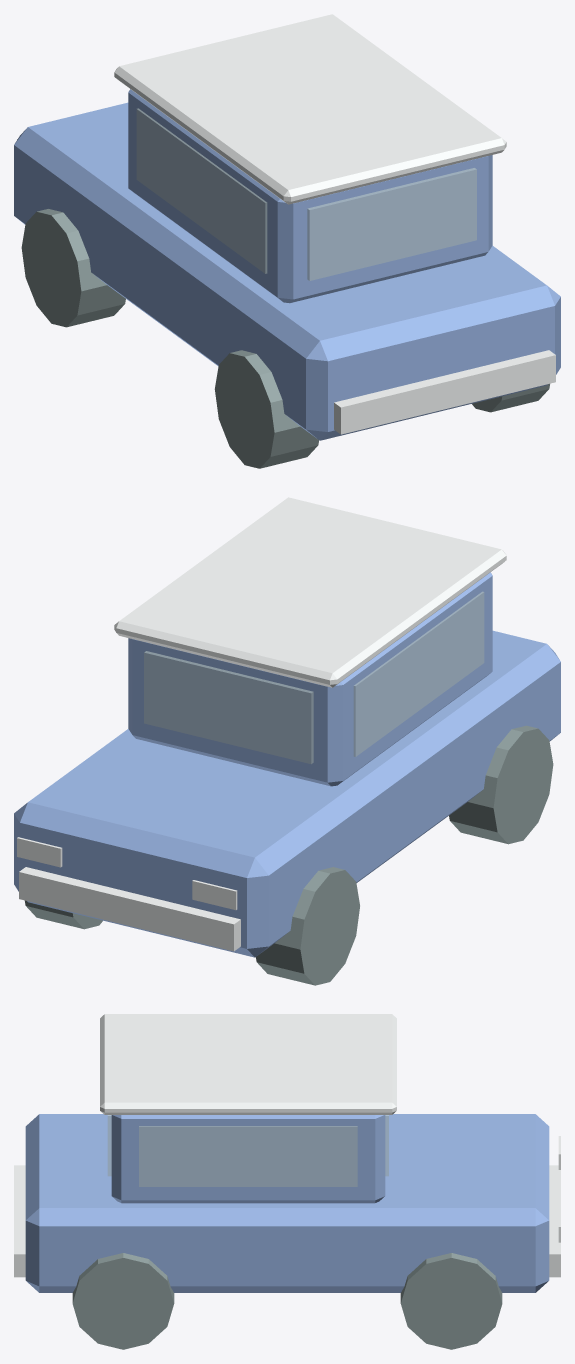
File: compact_car.glb
3 renders of one model, top to bottom at view 1: azimuth 30°, elevation 25°; view 2: azimuth 150°, elevation 25°; view 3: azimuth 270°, elevation 25°, orthographic. The views are drawn at different scales.
Parts seen in each view (by area): view 1: carpetBlue, carpetWhite, glass, metalDark; view 2: carpetBlue, carpetWhite, glass, metalDark; view 3: carpetBlue, carpetWhite, metalDark, glass.
Part boxes in pixels (x1,y1,x2,y2): carpetBlue: (14,89,560,440); carpetWhite: (17,14,555,434); glass: (136,108,476,280); metalDark: (21,209,549,468); carpetBlue: (14,572,560,957); carpetWhite: (17,497,506,951); glass: (144,591,484,763); metalDark: (24,725,553,985); carpetBlue: (25,1114,549,1292); carpetWhite: (14,1014,560,1277); metalDark: (72,1253,502,1349); glass: (107,1115,388,1186).
Bounding box in the file's own units: 0.6364 × 0.6 × 1.27.
